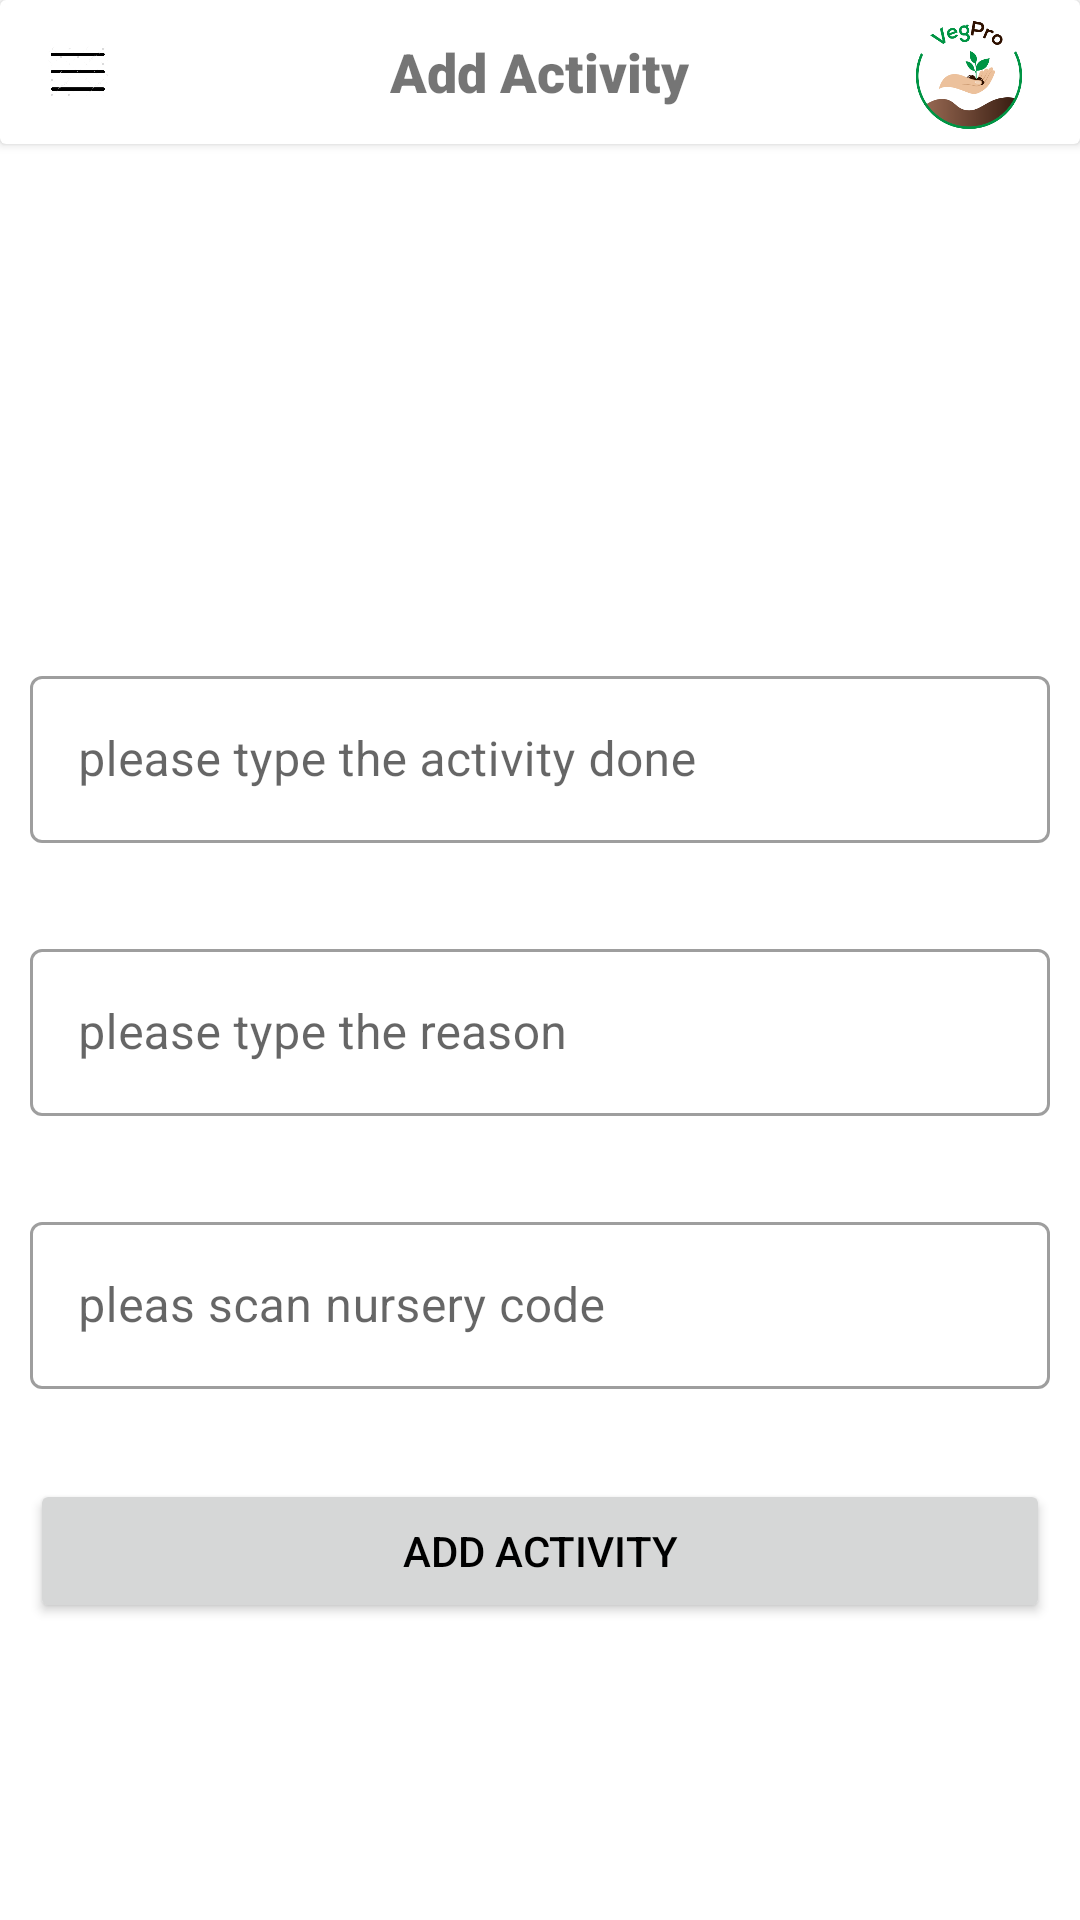

Named icons in this screenshot (1080x1920) and their centers, (x=x, y=y):
drawer: (x=78, y=72)
